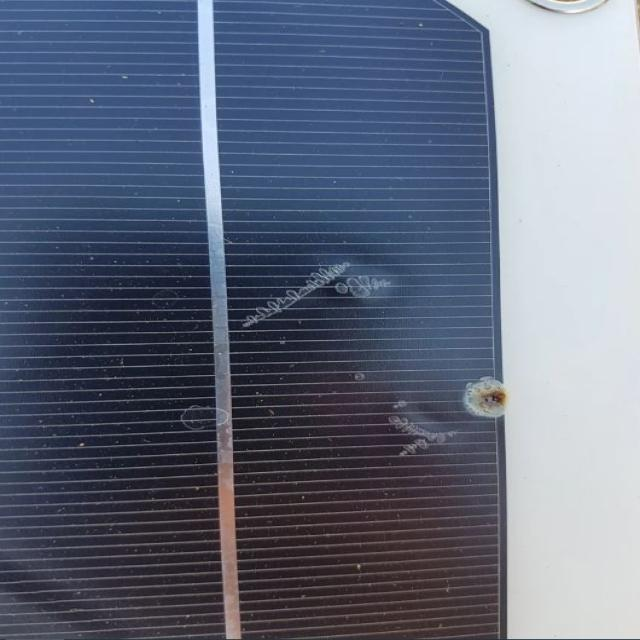Electrical-damage: (447, 363, 537, 437), (393, 408, 450, 462), (337, 269, 393, 305)
